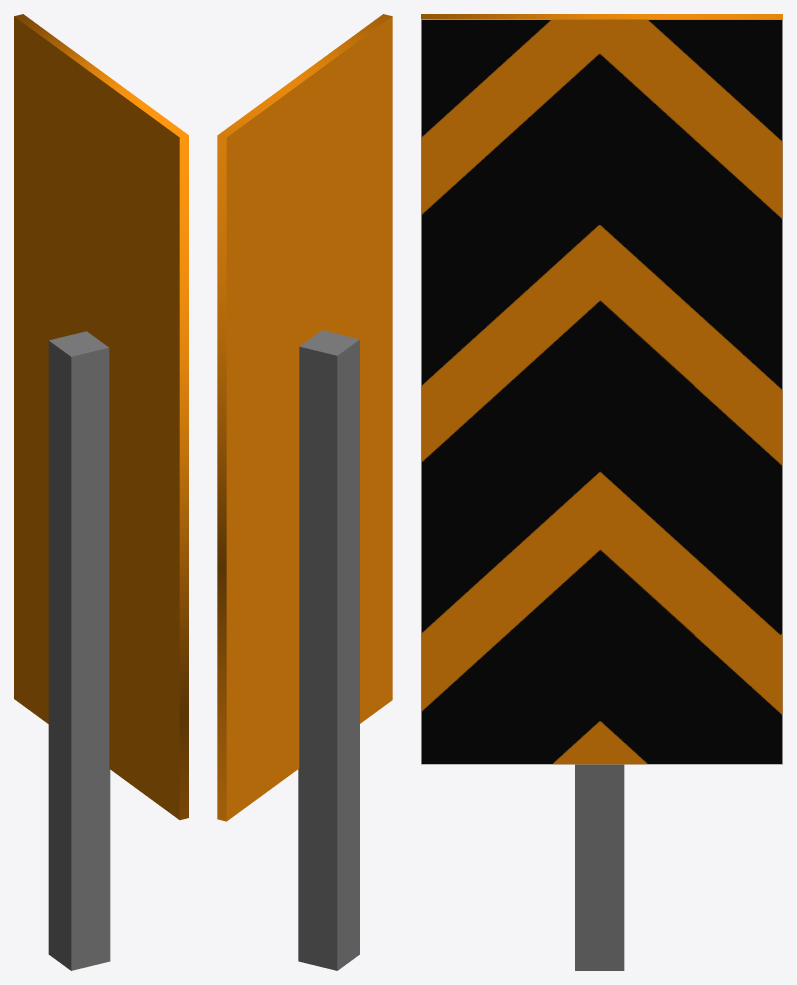
Rendered from sign13.fbx.
3 views of the same model, side by side, from view 1: azimuth 30°, elevation 25°; view 2: azimuth 150°, elevation 25°; view 3: azimuth 270°, elevation 25° (orthographic). The views are drawn at different scales.
Visible parts, largest first — view 1: Cylinder.000_Cylinder.000; view 2: Cylinder.000_Cylinder.000; view 3: Cylinder.000_Cylinder.000.
Boxes of the visible parts, box(x1,y1,x2,y2) form: Cylinder.000_Cylinder.000: box(14, 14, 188, 970); Cylinder.000_Cylinder.000: box(217, 14, 392, 970); Cylinder.000_Cylinder.000: box(421, 14, 782, 970).
Bounding box in the file's own units: 9.16 × 162 × 55.7.
